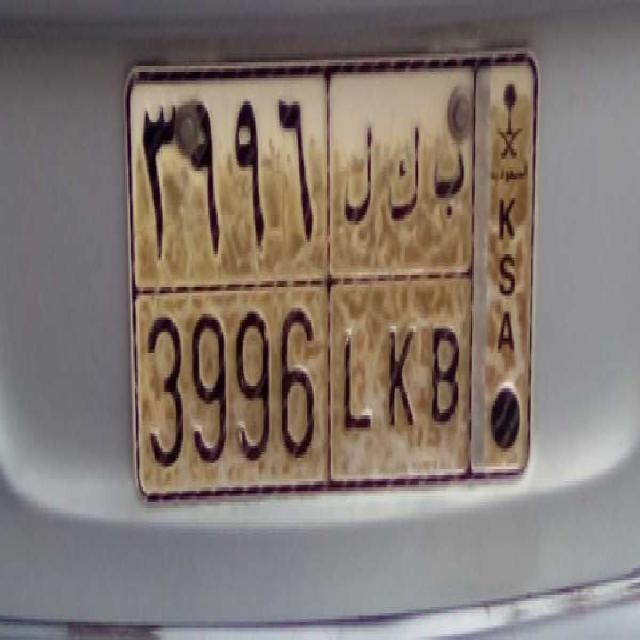license_plate: (132, 281, 472, 499)
